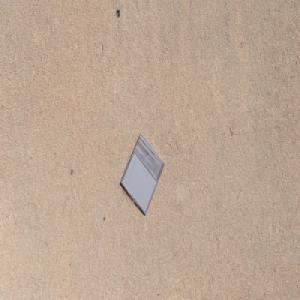PlasticPart: (120, 133, 166, 215)
